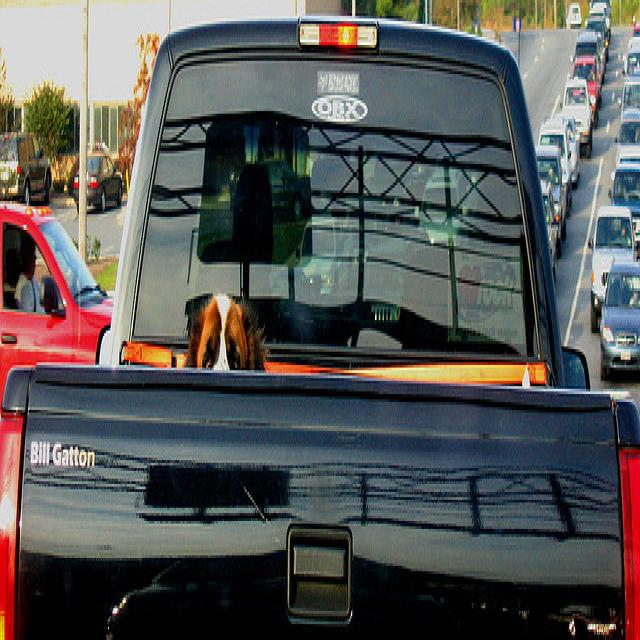Vehicle: (1, 14, 640, 628), (0, 0, 617, 238), (0, 196, 116, 408), (587, 206, 636, 336), (598, 261, 640, 381), (535, 143, 568, 258), (72, 152, 126, 213), (608, 162, 640, 260), (569, 29, 603, 108), (562, 73, 592, 157), (542, 177, 565, 283), (570, 54, 598, 127), (616, 120, 640, 166), (616, 74, 640, 120), (623, 37, 640, 77), (566, 2, 583, 27)
